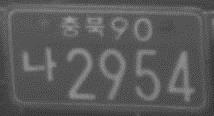0: (134, 16, 154, 41)
2: (67, 47, 96, 99)
4: (167, 48, 195, 102)
5: (134, 48, 161, 101)
9: (99, 47, 126, 99), (110, 15, 129, 40)
나: (23, 46, 57, 82)
충북_O: (60, 14, 105, 39)
